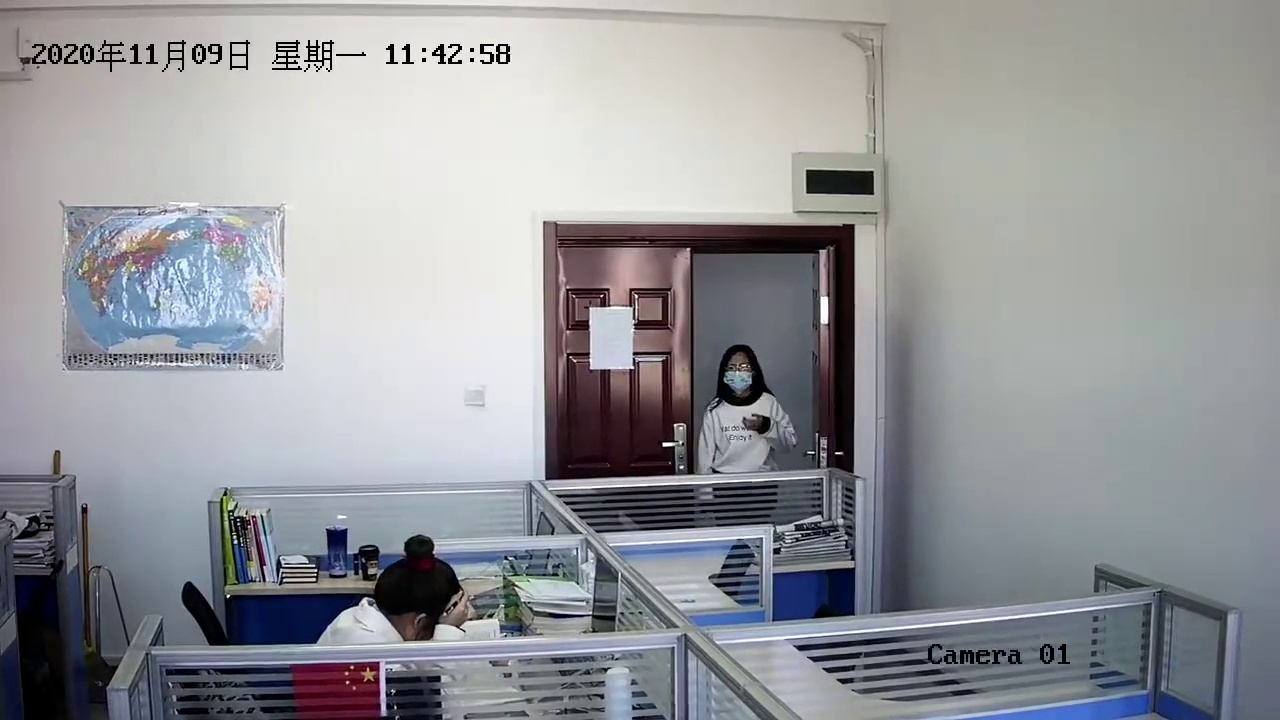mask: (713, 340, 761, 395)
